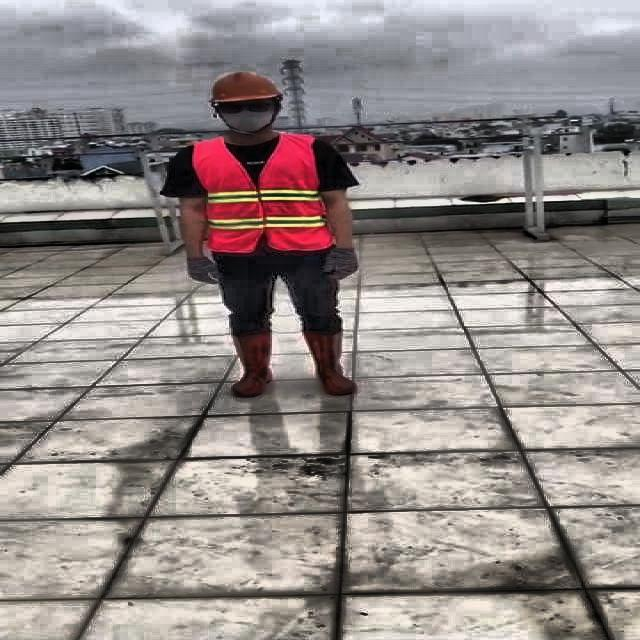safety_helmet: (209, 70, 283, 104)
safety_jacket: (194, 134, 330, 254)
